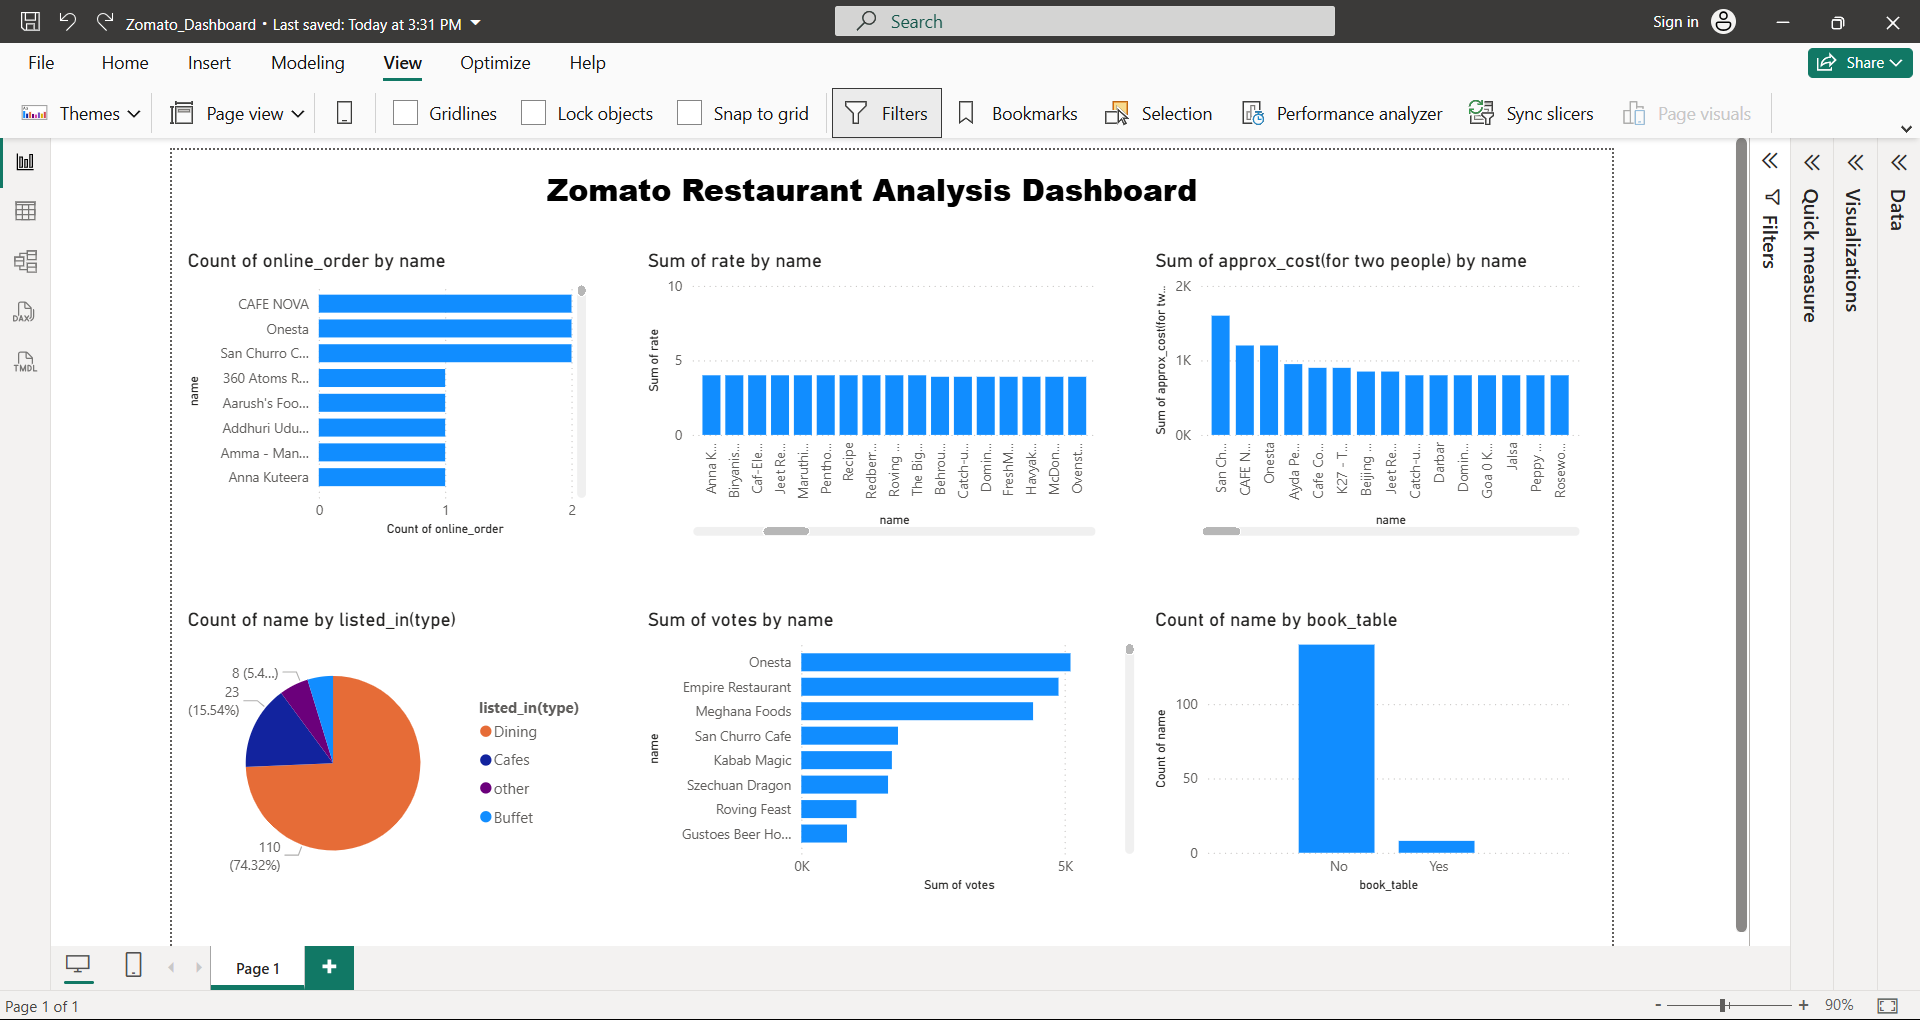

Layout of this report page (visuals, bound fields, positions):
{"tool":"powerbi","page":{"name":"Page 1","canvas":[1280,720],"ordinal":0},"visuals":[{"type":"clusteredBarChart","fields":{"Y":["CountNonNull(Zomato-data-.online_order)"],"Category":["Zomato-data-.name"]},"box":[8.6,88,364.4,260.5],"z":0},{"type":"clusteredColumnChart","fields":{"Y":["Sum(Zomato-data-.rate)"],"Category":["Zomato-data-.name"]},"box":[418.2,88,408.4,260.5],"z":1000},{"type":"pieChart","fields":{"Category":["Zomato-data-.listed_in(type)"],"Y":["CountNonNull(Zomato-data-.name)"]},"box":[8.6,407.2,373,258],"z":2000},{"type":"clusteredBarChart","fields":{"Category":["Zomato-data-.name"],"Y":["Sum(Zomato-data-.votes)"]},"box":[418.2,407.2,442.7,258],"z":3000},{"type":"clusteredColumnChart","fields":{"Y":["Sum(Zomato-data-.approx_cost(for two people))"],"Category":["Zomato-data-.name"]},"box":[869.4,88,387.6,260.5],"z":4000},{"type":"clusteredColumnChart","fields":{"Category":["Zomato-data-.book_table"],"Y":["CountNonNull(Zomato-data-.name)"]},"box":[869.4,407.2,377.9,258],"z":5000},{"type":"textbox","box":[100.3,11,1044.3,53.8],"z":6000}]}

Visuals, with their boxes on the page's 1280x720 design canvas (x1, y1, x2, y2). These are canvas units, not pixel positions in the 1920x1020 screenshot, which may show the page scaled, cropped or inside an application window:
clusteredBarChart - CountNonNull(Zomato-data-.online_order) x Zomato-data-.name: (9, 88, 373, 348)
clusteredColumnChart - Sum(Zomato-data-.rate) x Zomato-data-.name: (418, 88, 827, 348)
pieChart - Zomato-data-.listed_in(type) x CountNonNull(Zomato-data-.name): (9, 407, 382, 665)
clusteredBarChart - Zomato-data-.name x Sum(Zomato-data-.votes): (418, 407, 861, 665)
clusteredColumnChart - Sum(Zomato-data-.approx_cost(for two people)) x Zomato-data-.name: (869, 88, 1257, 348)
clusteredColumnChart - Zomato-data-.book_table x CountNonNull(Zomato-data-.name): (869, 407, 1247, 665)
textbox: (100, 11, 1145, 65)
